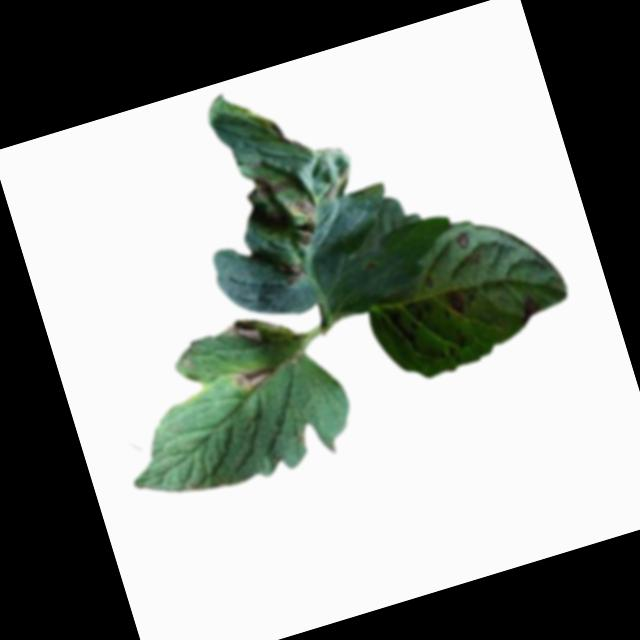Early_blight: (285, 196, 326, 248), (242, 166, 292, 204), (230, 359, 276, 395), (223, 313, 266, 350), (276, 259, 312, 287), (443, 284, 470, 318), (515, 291, 542, 324), (453, 231, 473, 252)
